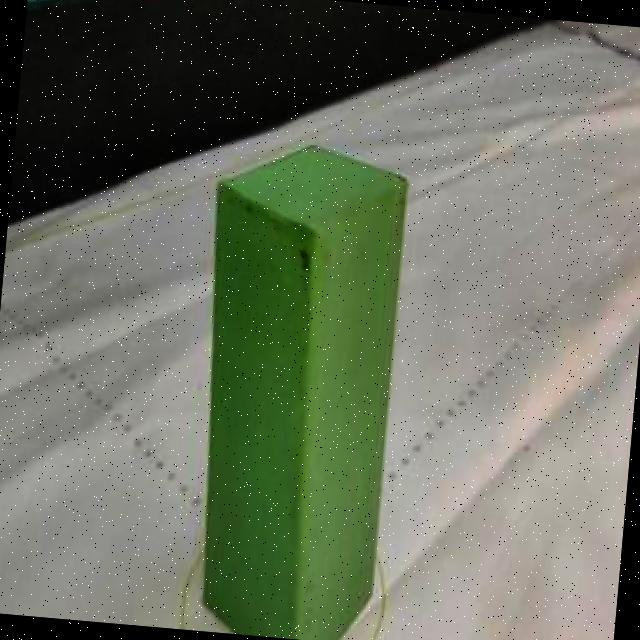greenbox: (176, 134, 413, 640)
